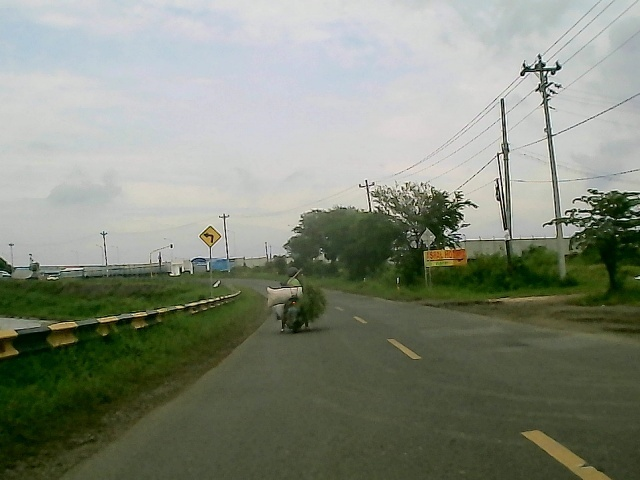Tikungan tajam ke kiri: (198, 223, 221, 251)
